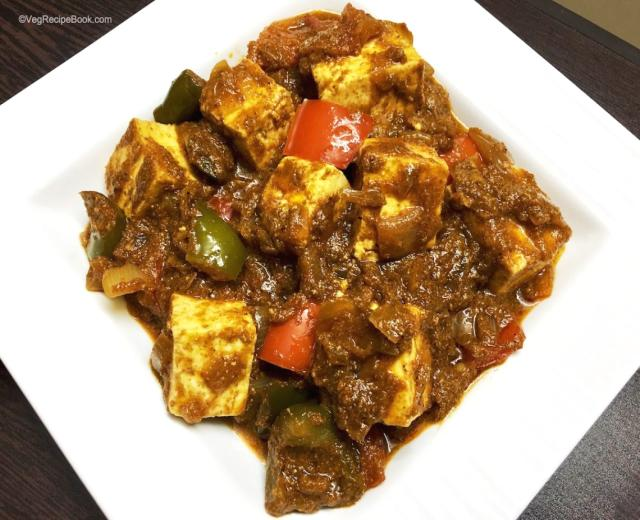kadai paneer: (8, 6, 638, 514), (4, 310, 636, 508), (454, 0, 640, 508), (0, 3, 170, 510), (0, 0, 134, 106), (527, 1, 640, 69), (256, 301, 321, 375)
